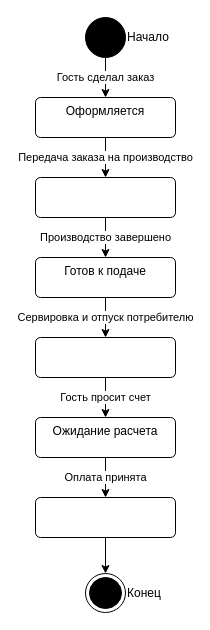
This 210x630 diagram has some shape labels left out. The shapes that lost their labels are listed below. From the top down, each one's centre as x and y in pixels, then its label:
At (105,197): "В производстве".
At (105,357): "Подан".
At (105,517): "Оплачен".
